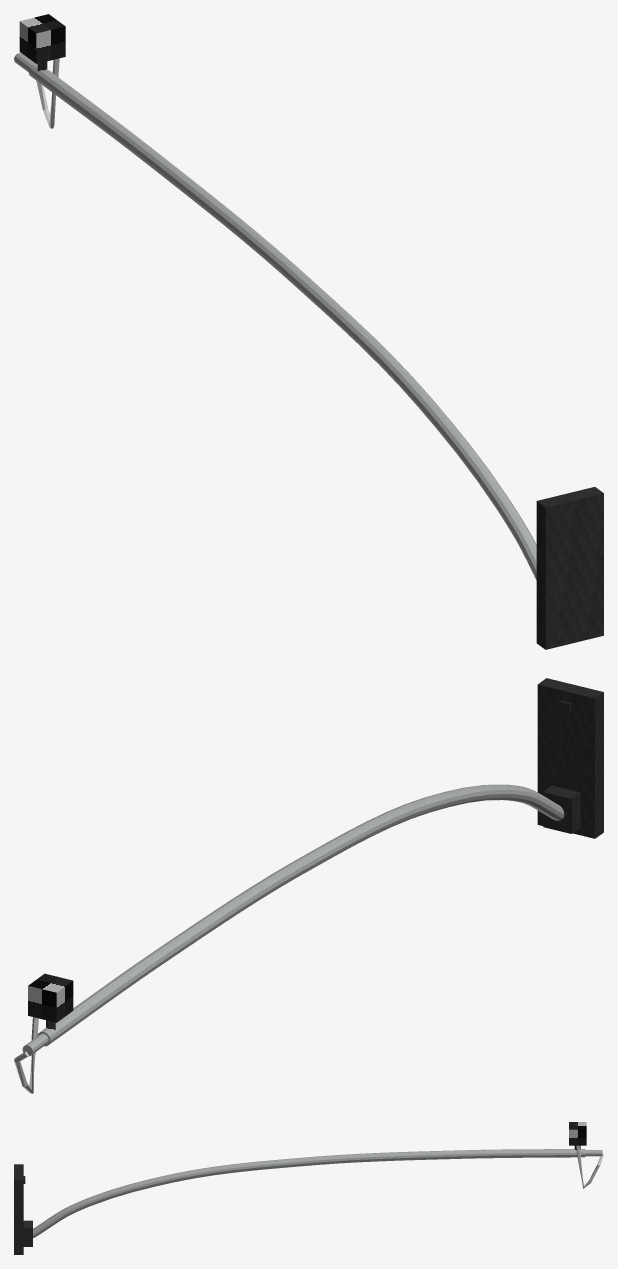
The model's file is arm_6_straight_wired.obj.
3 views of the same model, one above another, from view 1: azimuth 30°, elevation 25°; view 2: azimuth 150°, elevation 25°; view 3: azimuth 270°, elevation 25° (orthographic). The views are drawn at different scales.
Parts seen in each view (by area): view 1: pole_light_mount_6_straight_wired; view 2: pole_light_mount_6_straight_wired; view 3: pole_light_mount_6_straight_wired.
Boxes of the visible parts, x1,y1,x2,y2 form: pole_light_mount_6_straight_wired: (14,14,603,649); pole_light_mount_6_straight_wired: (14,678,603,1093); pole_light_mount_6_straight_wired: (14,1122,603,1254).
Bounding box in the file's own units: 0.375 × 1.41 × 6.2.
